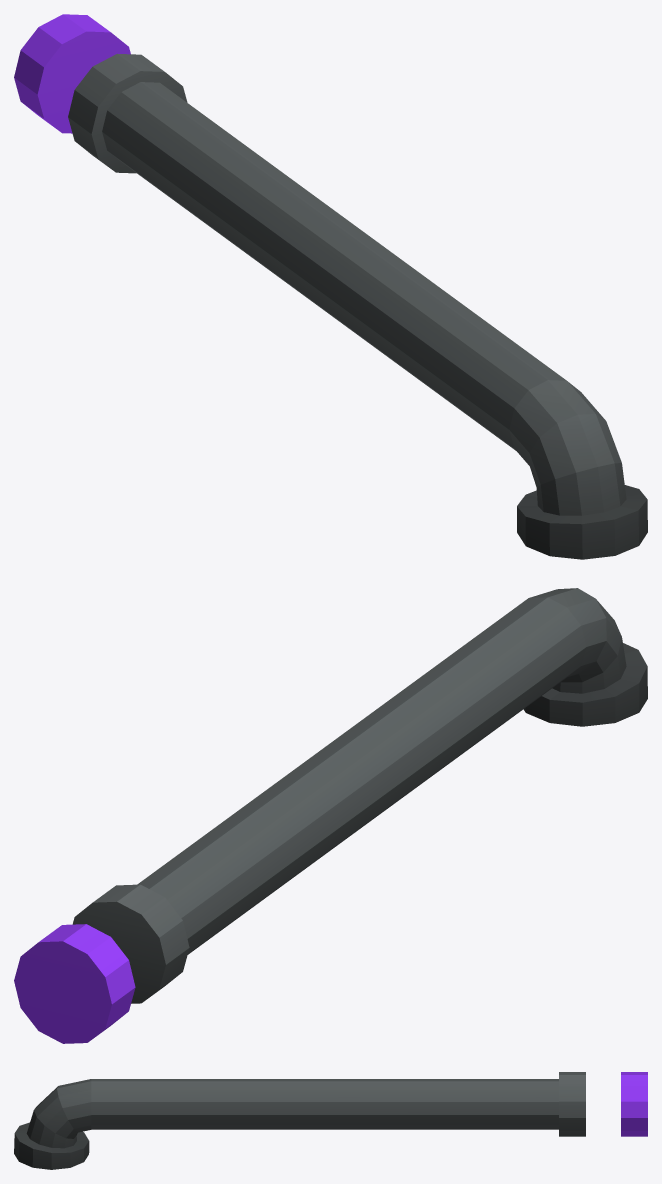
The model's file is generador.fbx.
3 views of the same model, one above another, from view 1: azimuth 30°, elevation 25°; view 2: azimuth 150°, elevation 25°; view 3: azimuth 270°, elevation 25° (orthographic). The views are drawn at different scales.
Parts seen in each view (by area): view 1: generador; view 2: generador; view 3: generador.
Part boxes in pixels (left/top/right/bottom): generador: left=14, top=14, right=647, bottom=559; generador: left=14, top=588, right=647, bottom=1043; generador: left=14, top=1072, right=647, bottom=1169.
Bounding box in the file's own units: 13.3 × 15.47 × 112.
